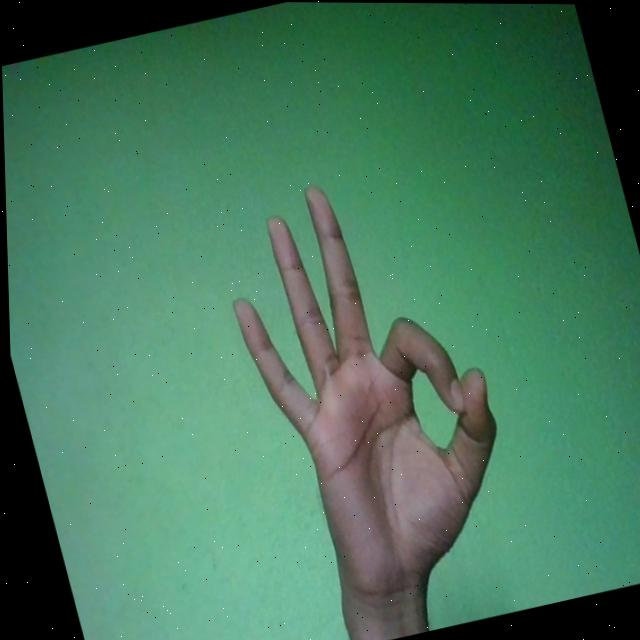Ok: (206, 158, 533, 621)
